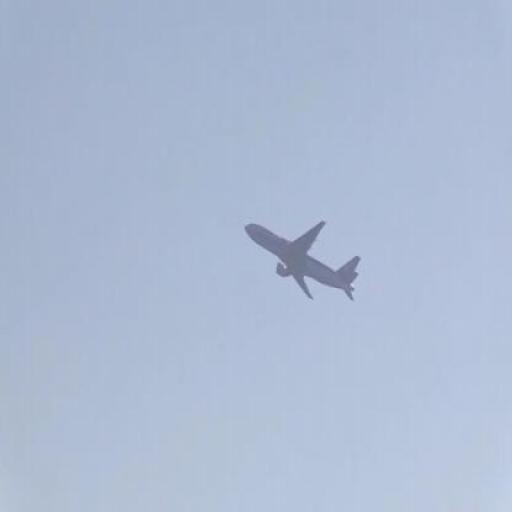aircraft: (245, 222, 362, 300)
